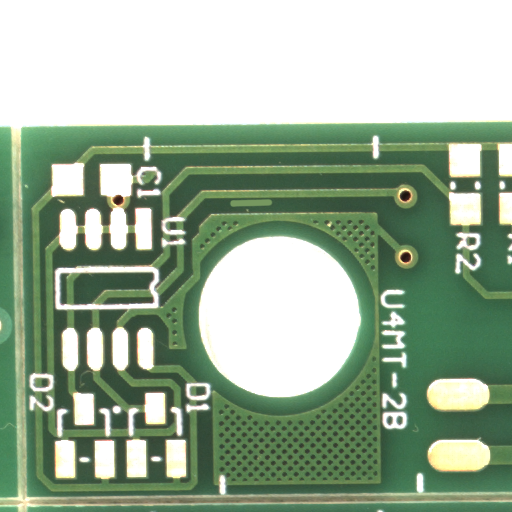Spurious_copper: (250, 203, 294, 214)
